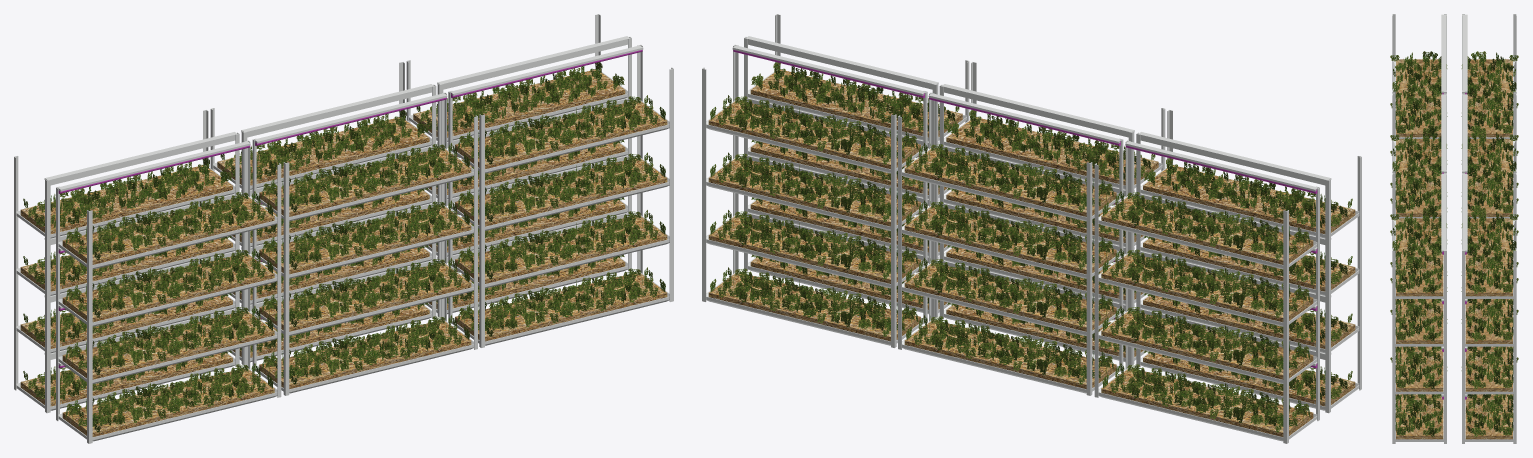
File: Planter.fbx
3 renders of one model, left to right at view 1: azimuth 30°, elevation 25°; view 2: azimuth 150°, elevation 25°; view 3: azimuth 270°, elevation 25°, orthographic. The views are drawn at different scales.
Parts seen in each view (by area): view 1: Planters; view 2: Planters; view 3: Planters.
Boxes of the visible parts, bbox=[...] form: Planters: bbox=[14, 14, 673, 443]; Planters: bbox=[702, 14, 1361, 443]; Planters: bbox=[1390, 14, 1518, 443].
Bounding box in the file's own units: 534 × 203 × 122.
Materials: 4 (2 with a texture image).
